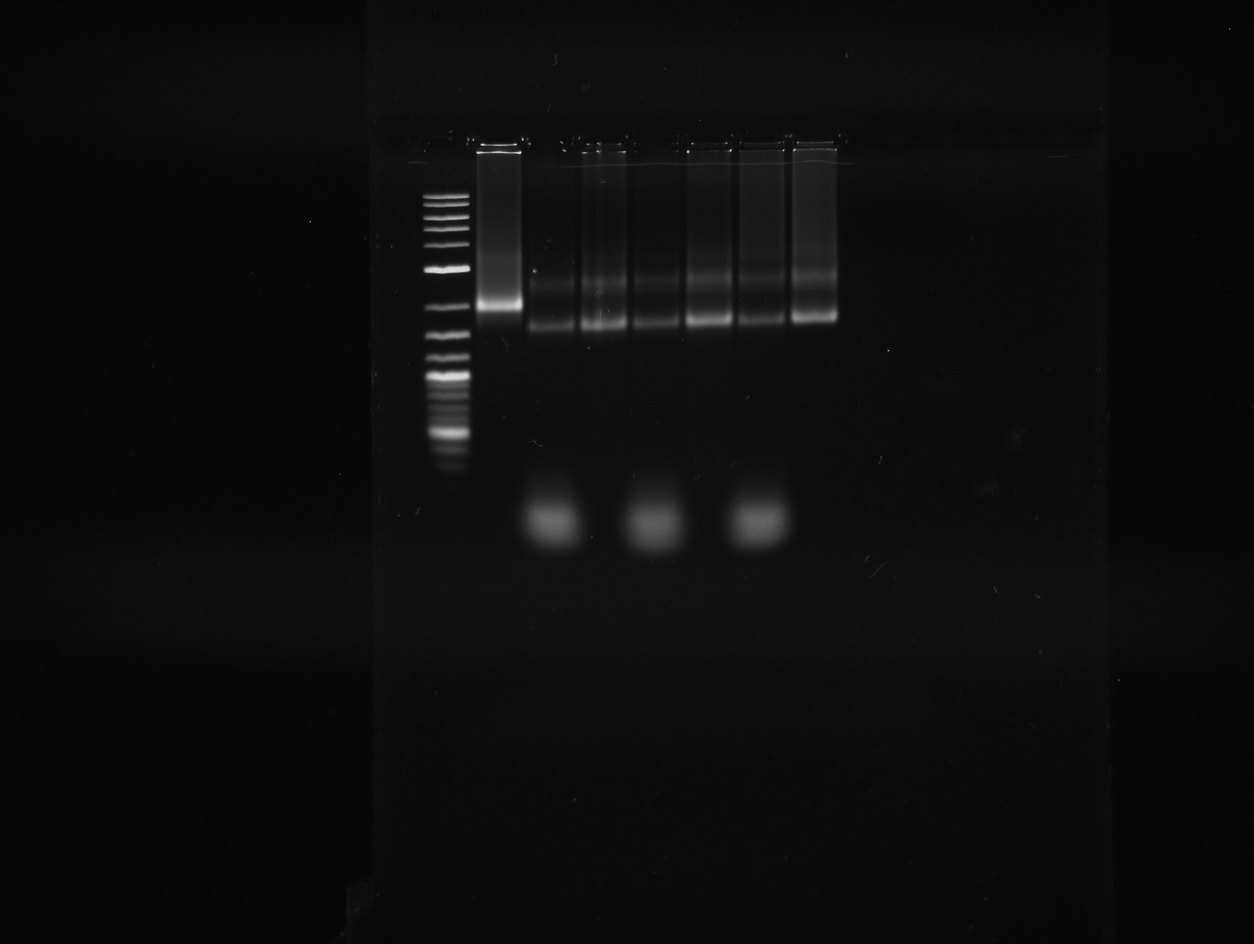Lane: (634, 129, 687, 562), (793, 126, 840, 562), (535, 127, 581, 561), (482, 129, 528, 559), (742, 115, 785, 567), (587, 124, 628, 567), (692, 113, 730, 570)
ladder: (410, 138, 476, 547)
